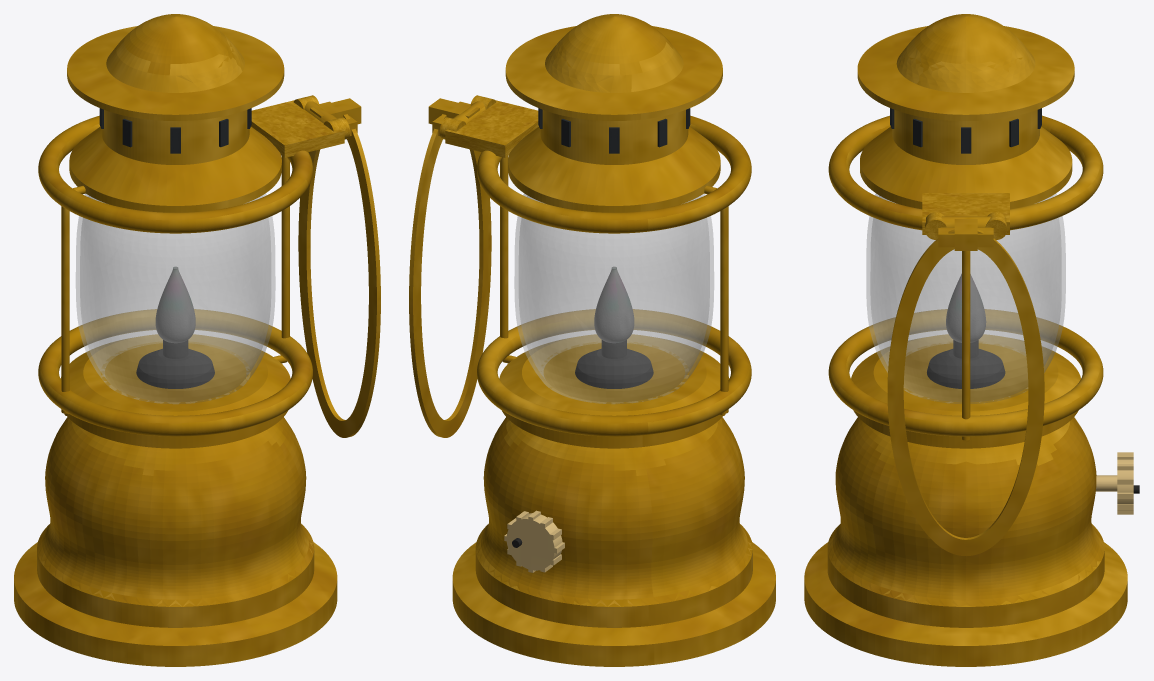
The model's file is Light_Latern__0657.glb.
3 views of the same model, side by side, from view 1: azimuth 30°, elevation 25°; view 2: azimuth 150°, elevation 25°; view 3: azimuth 270°, elevation 25° (orthographic).
Parts seen in each view (by area): view 1: lantern_body::green_body_shell, lantern_body::globe_glass, lantern_body::guard_ring_lower, lantern_body::guard_ring_upper, side_strap_handle::strap_loop, lantern_body::strap_hinge_saddle, lantern_body::burner_wick, lantern_body::flame, lantern_body::guard_member_1, lantern_body::guard_member_0, side_strap_handle::strap_tab; view 2: lantern_body::green_body_shell, lantern_body::globe_glass, lantern_body::guard_ring_lower, lantern_body::guard_ring_upper, side_strap_handle::strap_loop, lantern_body::strap_hinge_saddle, lantern_body::burner_wick, wick_knob::knob_knurled_disk, lantern_body::flame, lantern_body::guard_member_1, lantern_body::guard_member_0, side_strap_handle::strap_tab; view 3: lantern_body::green_body_shell, lantern_body::globe_glass, side_strap_handle::strap_loop, lantern_body::guard_ring_lower, lantern_body::guard_ring_upper, lantern_body::burner_wick, lantern_body::strap_hinge_saddle, lantern_body::guard_member_0, lantern_body::flame, side_strap_handle::strap_tab, wick_knob::knob_knurled_disk.
Part boxes in pixels (<box>): lantern_body::green_body_shell: <box>14,14,337,666</box>; lantern_body::globe_glass: <box>76,193,275,403</box>; lantern_body::guard_ring_lower: <box>38,309,312,436</box>; lantern_body::guard_ring_upper: <box>38,115,312,233</box>; side_strap_handle::strap_loop: <box>298,114,380,437</box>; lantern_body::strap_hinge_saddle: <box>251,100,344,157</box>; lantern_body::burner_wick: <box>136,340,214,388</box>; lantern_body::flame: <box>155,266,195,343</box>; lantern_body::guard_member_1: <box>61,186,85,415</box>; lantern_body::guard_member_0: <box>272,156,289,363</box>; side_strap_handle::strap_tab: <box>310,98,361,135</box>; lantern_body::green_body_shell: <box>452,14,775,666</box>; lantern_body::globe_glass: <box>514,193,713,403</box>; lantern_body::guard_ring_lower: <box>477,309,751,436</box>; lantern_body::guard_ring_upper: <box>477,115,751,233</box>; side_strap_handle::strap_loop: <box>409,114,491,437</box>; lantern_body::strap_hinge_saddle: <box>445,100,538,157</box>; lantern_body::burner_wick: <box>575,340,653,388</box>; wick_knob::knob_knurled_disk: <box>504,510,564,572</box>; lantern_body::flame: <box>594,266,634,343</box>; lantern_body::guard_member_1: <box>704,186,728,415</box>; lantern_body::guard_member_0: <box>500,156,517,363</box>; side_strap_handle::strap_tab: <box>428,98,479,135</box>; lantern_body::green_body_shell: <box>804,14,1127,666</box>; lantern_body::globe_glass: <box>866,193,1065,403</box>; side_strap_handle::strap_loop: <box>887,229,1044,555</box>; lantern_body::guard_ring_lower: <box>828,309,1103,436</box>; lantern_body::guard_ring_upper: <box>828,115,1103,230</box>; lantern_body::burner_wick: <box>927,340,1005,388</box>; lantern_body::strap_hinge_saddle: <box>922,193,1009,234</box>; lantern_body::guard_member_0: <box>962,251,970,442</box>; lantern_body::flame: <box>946,274,986,342</box>; side_strap_handle::strap_tab: <box>938,214,993,250</box>; wick_knob::knob_knurled_disk: <box>1096,452,1133,514</box>.
Size of the model in its own units: 0.16 by 0.278 by 0.1451.
Materials: 6 (5 with a texture image).
